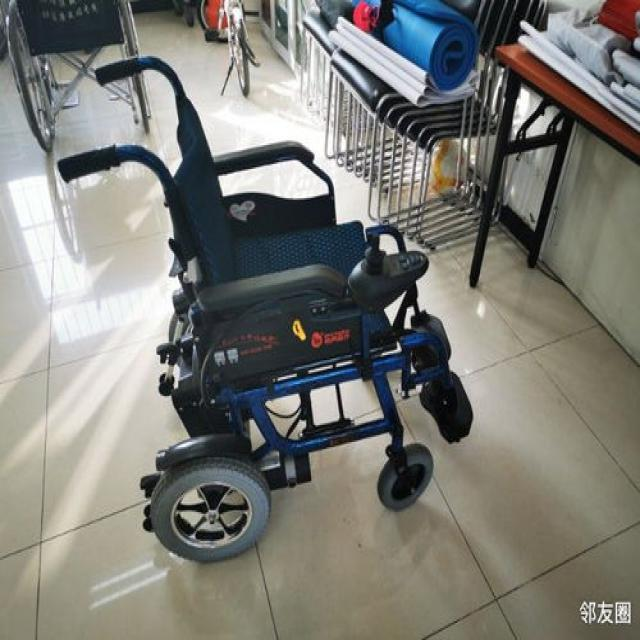wheelchair: (55, 46, 480, 574)
